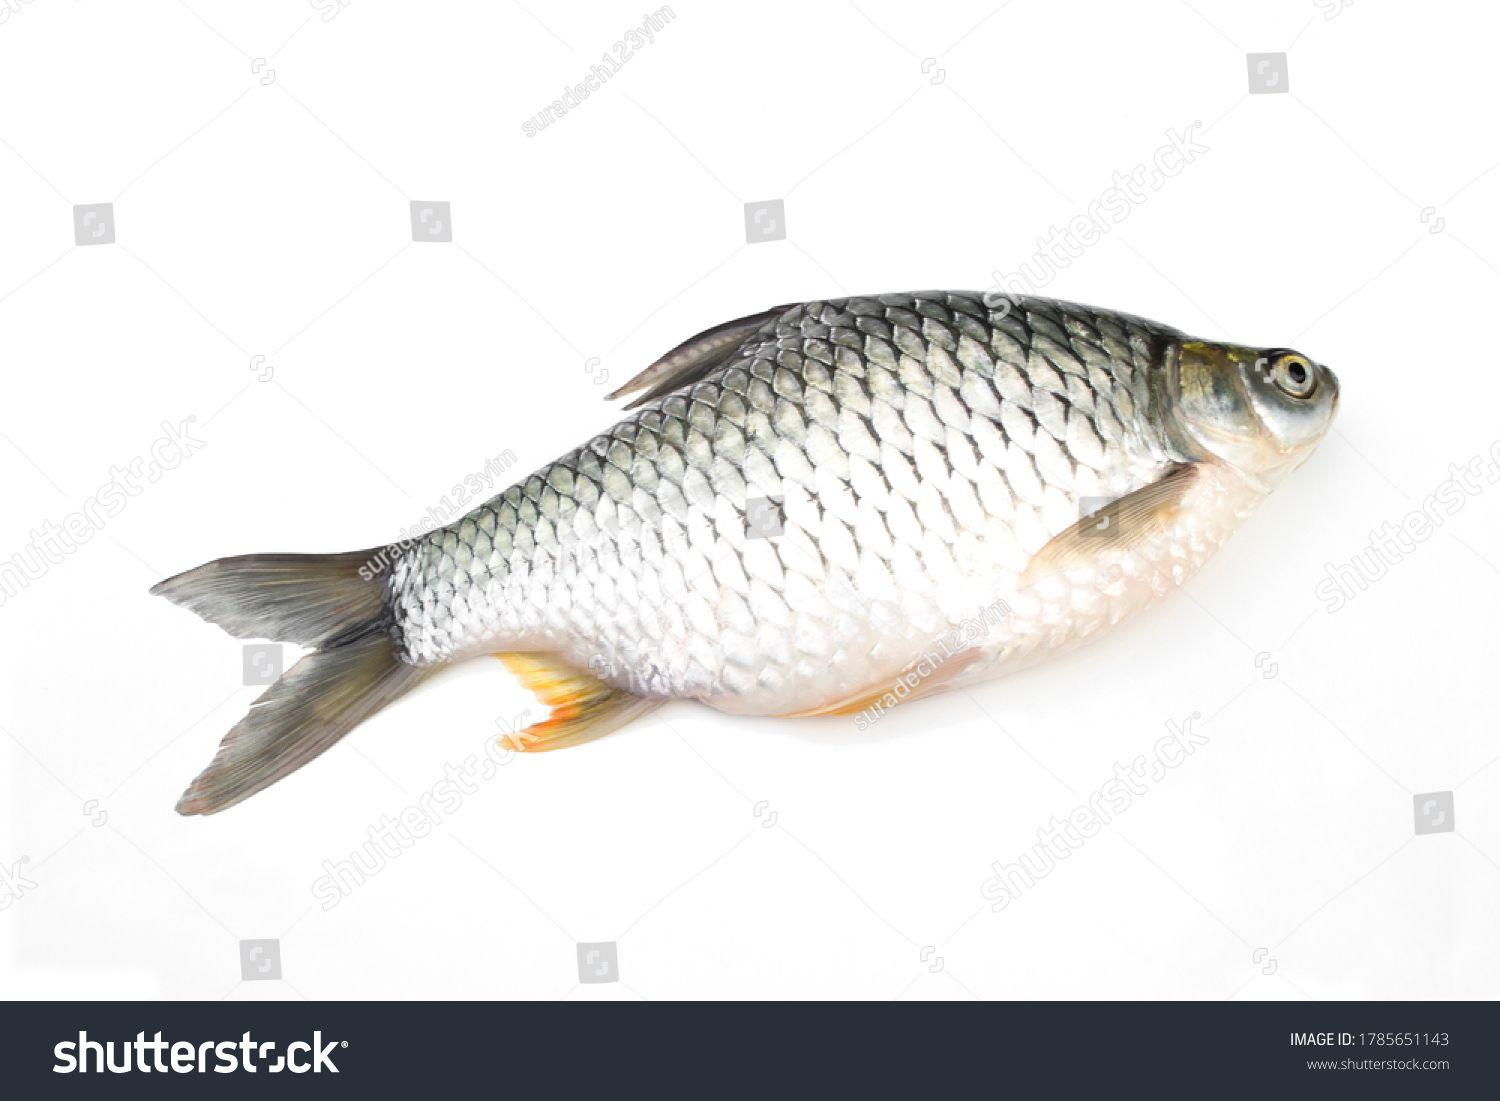Silver Barb: (151, 277, 1336, 873)
